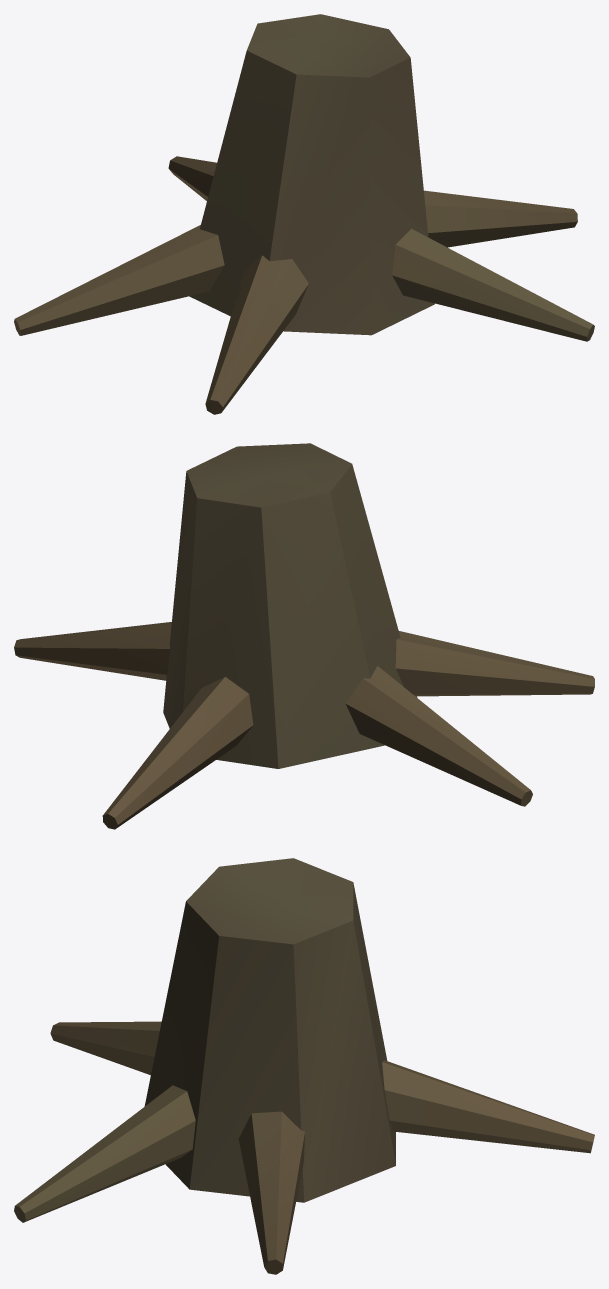
The model's file is taiga-stump.glb.
The picture shows the model from 3 angles, top to bottom: view 1: azimuth 30°, elevation 25°; view 2: azimuth 150°, elevation 25°; view 3: azimuth 270°, elevation 25°; orthographic projection. The views are drawn at different scales.
Parts seen in each view (by area): view 1: Трухлявый пень; view 2: Трухлявый пень; view 3: Трухлявый пень.
Part boxes in pixels (box(x1,y1,x2,y2)): Трухлявый пень: box(14, 14, 594, 414); Трухлявый пень: box(14, 443, 594, 829); Трухлявый пень: box(14, 858, 594, 1274).
Bounding box in the file's own units: 2.6 × 1.18 × 2.36.
